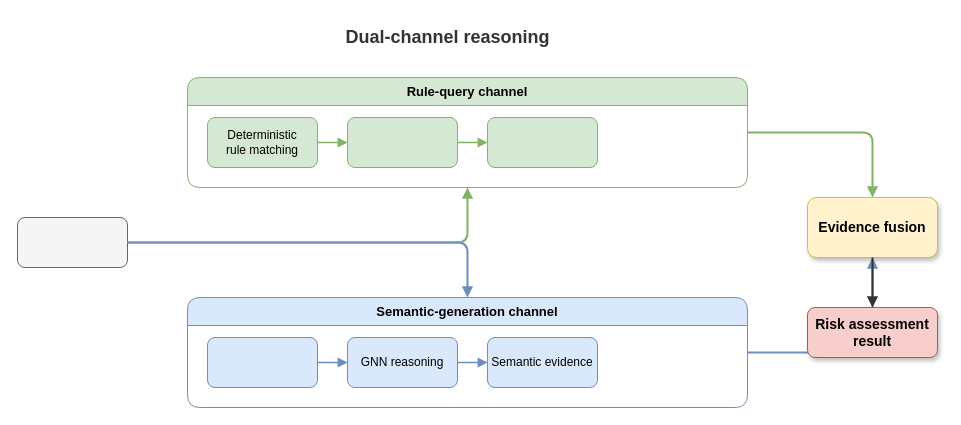
Image size: 961x425. Some labels were removed from this diagram. Each missing label, with the centre of its shape:
"Input query" belongs at point (72, 242).
"Rule-based evidence" belongs at point (542, 142).
"Symbolic reasoning" belongs at point (402, 142).
"Vector similarity" belongs at point (262, 362).
